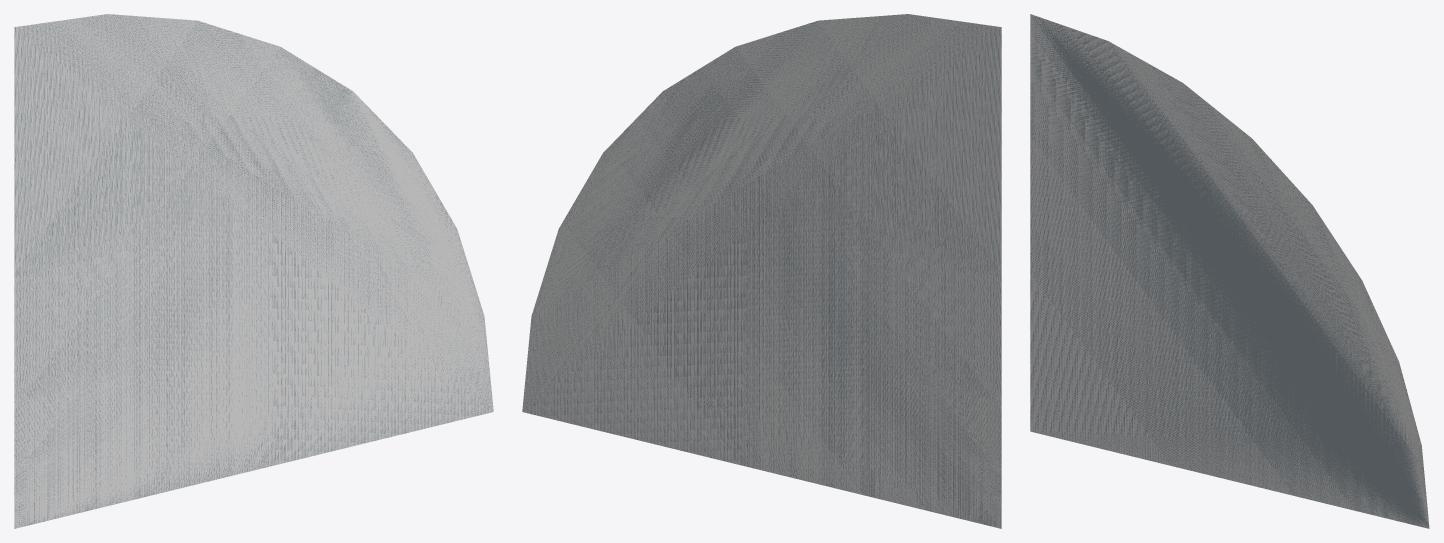
File: Quater_round_32.obj
3 views of the same model, side by side, from view 1: azimuth 30°, elevation 25°; view 2: azimuth 150°, elevation 25°; view 3: azimuth 330°, elevation 25° (orthographic). The views are drawn at different scales.
Parts seen in each view (by area): view 1: Mesh1 Model; view 2: Mesh1 Model; view 3: Mesh1 Model.
Boxes of the visible parts, x1,y1,x2,y2 form: Mesh1 Model: [14, 14, 493, 528]; Mesh1 Model: [522, 14, 1001, 528]; Mesh1 Model: [1030, 14, 1429, 528].
Size of the model in its own units: 1.14 by 1.14 by 0.
